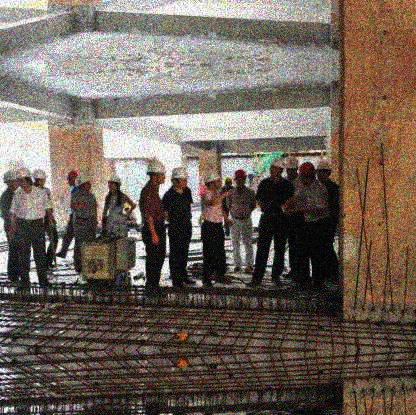helmet: (144, 160, 167, 185), (204, 170, 223, 191), (269, 156, 286, 179), (171, 168, 189, 189), (315, 160, 333, 181), (300, 162, 316, 185), (285, 156, 299, 180), (16, 169, 31, 190), (30, 170, 47, 188), (2, 171, 18, 189), (75, 175, 91, 193), (235, 169, 250, 187), (106, 176, 122, 192), (66, 170, 77, 186), (224, 176, 233, 187), (123, 204, 129, 211)
